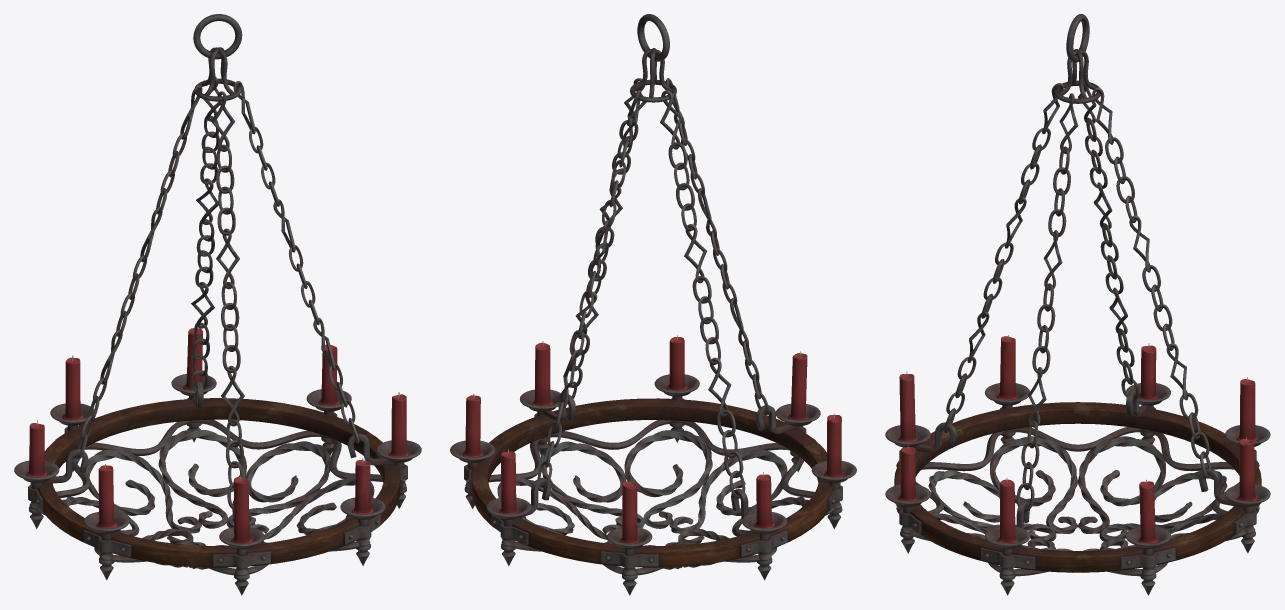
File: chandelier.gltf
3 renders of one model, left to right at view 1: azimuth 30°, elevation 25°; view 2: azimuth 150°, elevation 25°; view 3: azimuth 270°, elevation 25°, orthographic.
Visible parts, largest first — view 1: Cylinder, BezierCircle.001, Arc.003, Cylinder.004, Cylinder.003, Plane, Cylinder.001, Cylinder.002, Cube, Torus.001, Circle; view 2: Cylinder, BezierCircle.001, Arc.003, Cylinder.004, Cylinder.003, Plane, Cylinder.001, Cylinder.002, Cube, Circle, Torus.001; view 3: BezierCircle.001, Cylinder, Arc.003, Cylinder.004, Cylinder.003, Plane, Cylinder.001, Cylinder.002, Cube, Circle, Torus.001.
Part boxes in pixels (x1=…): Cylinder: x1=38, y1=398, x2=400, y2=567; BezierCircle.001: x1=76, y1=76, x2=359, y2=509; Arc.003: x1=62, y1=430, x2=374, y2=569; Cylinder.004: x1=26, y1=328, x2=408, y2=543; Cylinder.003: x1=14, y1=374, x2=421, y2=549; Plane: x1=36, y1=419, x2=382, y2=575; Cylinder.001: x1=28, y1=397, x2=407, y2=568; Cylinder.002: x1=29, y1=396, x2=406, y2=595; Cube: x1=41, y1=381, x2=395, y2=521; Torus.001: x1=193, y1=14, x2=242, y2=59; Circle: x1=201, y1=47, x2=234, y2=95; Cylinder: x1=471, y1=398, x2=833, y2=567; BezierCircle.001: x1=537, y1=78, x2=769, y2=498; Arc.003: x1=497, y1=430, x2=808, y2=569; Cylinder.004: x1=462, y1=337, x2=843, y2=543; Cylinder.003: x1=450, y1=374, x2=856, y2=549; Plane: x1=489, y1=420, x2=834, y2=575; Cylinder.001: x1=464, y1=398, x2=842, y2=568; Cylinder.002: x1=464, y1=396, x2=842, y2=595; Cube: x1=520, y1=394, x2=796, y2=519; Circle: x1=633, y1=48, x2=673, y2=97; Torus.001: x1=637, y1=14, x2=669, y2=61; BezierCircle.001: x1=944, y1=78, x2=1211, y2=510; Cylinder: x1=894, y1=402, x2=1261, y2=572; Arc.003: x1=928, y1=436, x2=1227, y2=572; Cylinder.004: x1=898, y1=336, x2=1258, y2=543; Cylinder.003: x1=885, y1=383, x2=1270, y2=549; Plane: x1=909, y1=427, x2=1246, y2=576; Cylinder.001: x1=896, y1=407, x2=1259, y2=569; Cylinder.002: x1=900, y1=405, x2=1255, y2=595; Cube: x1=914, y1=389, x2=1242, y2=528; Circle: x1=1058, y1=49, x2=1096, y2=98; Torus.001: x1=1066, y1=14, x2=1089, y2=62.
Bounding box in the file's own units: 1.09 × 1.64 × 1.09.
Materials: 1 (1 with a texture image).
